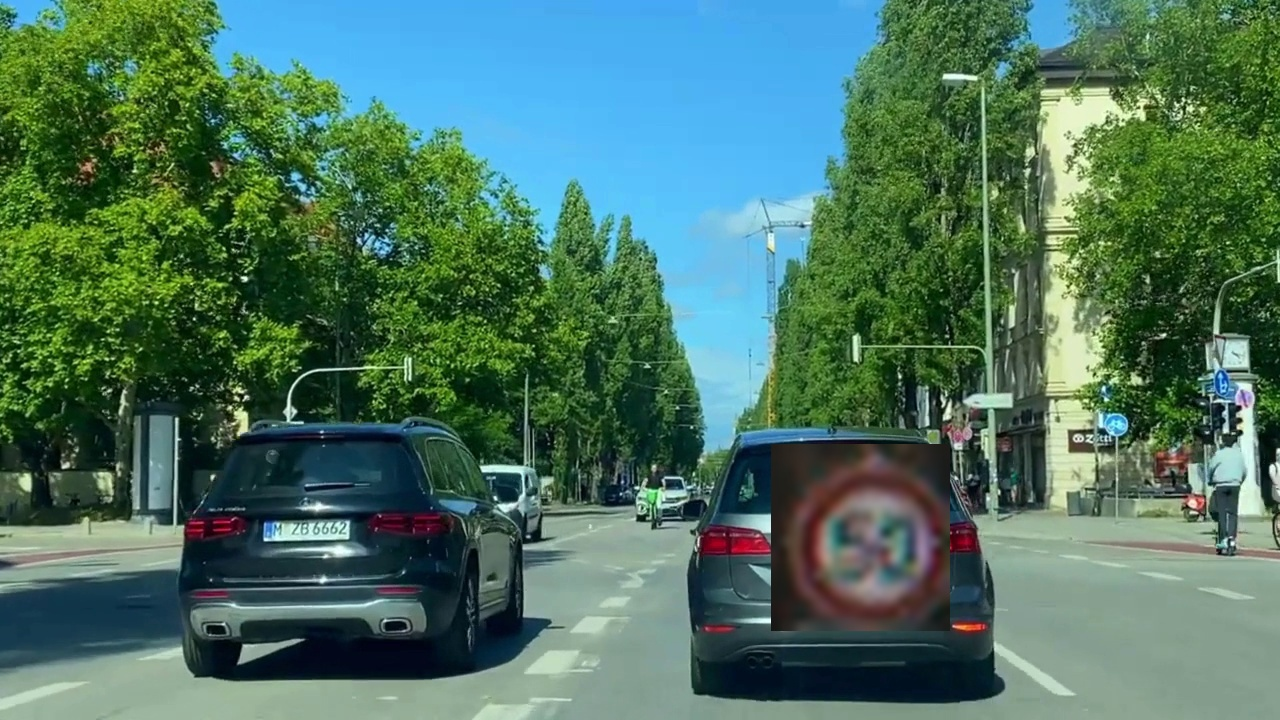Speed 50: (771, 444, 950, 631)
